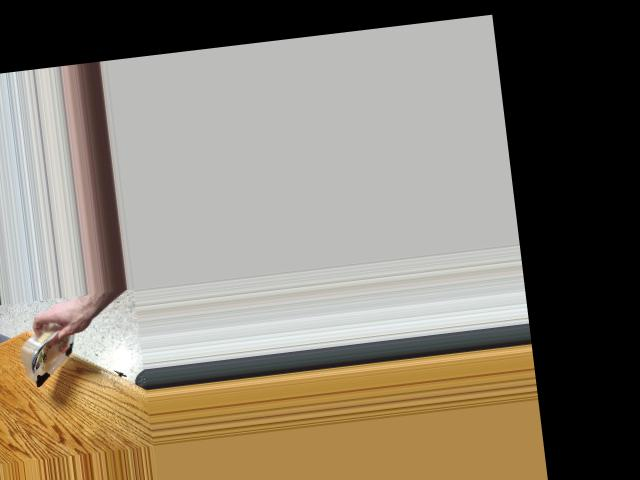cheese: (8, 321, 96, 389)
